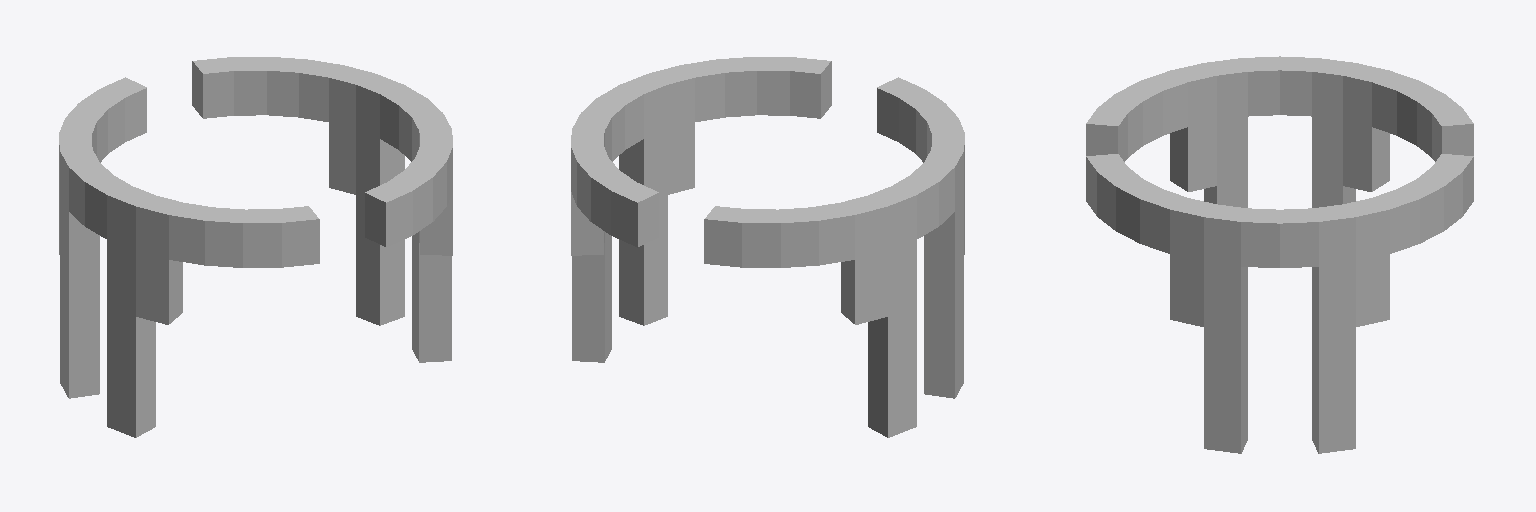
The model's file is Gate.obj.
3 renders of one model, left to right at view 1: azimuth 30°, elevation 25°; view 2: azimuth 150°, elevation 25°; view 3: azimuth 270°, elevation 25°, orthographic.
Bounding box in the file's own units: 2.4 × 1.55 × 2.35.